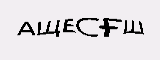Ғ: (98, 16, 124, 39)
